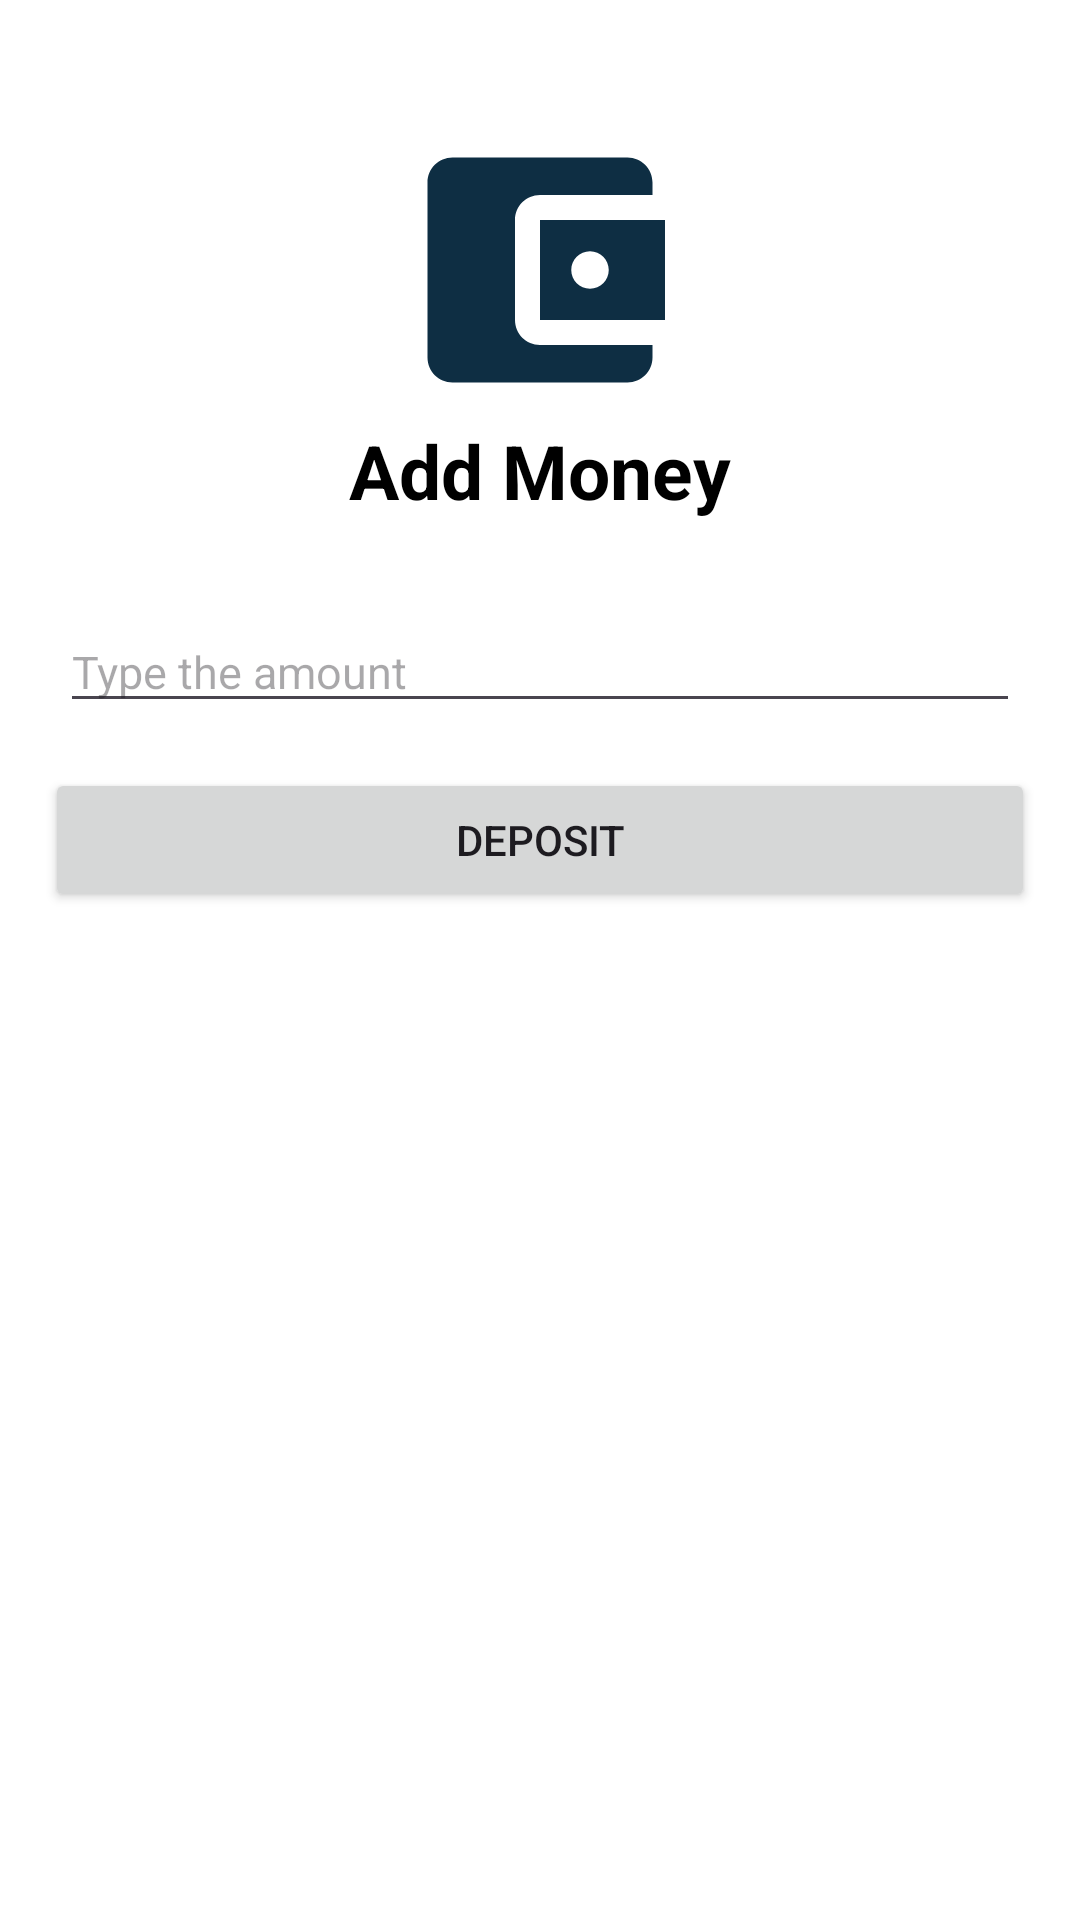

Named icons in this screenshot (1080x1920) and their centers, (x,y):
account balance wallet: (546,270)
